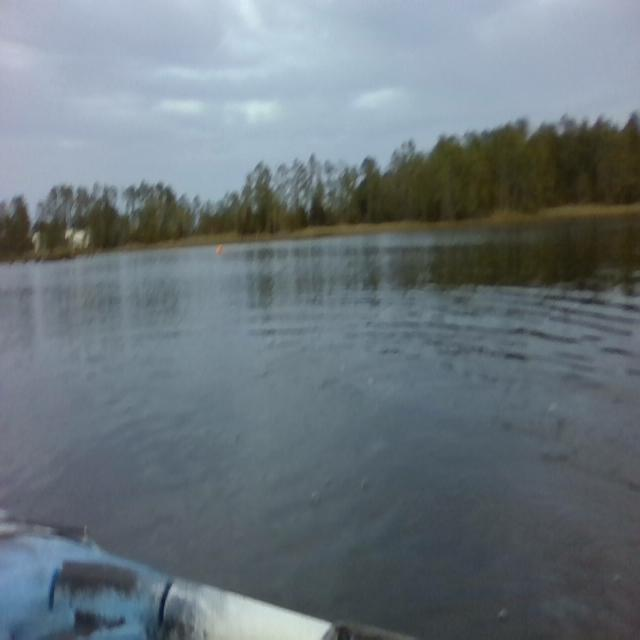Buoy: (216, 241, 223, 254)
